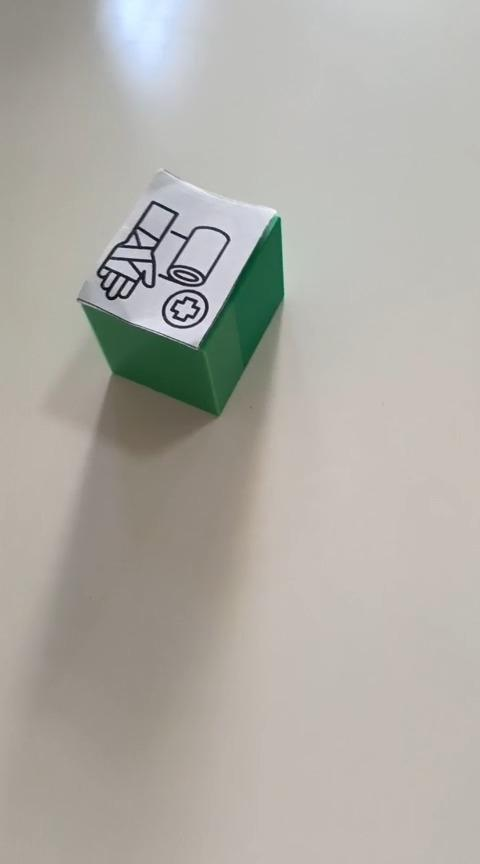Bandages: (75, 166, 285, 417)
